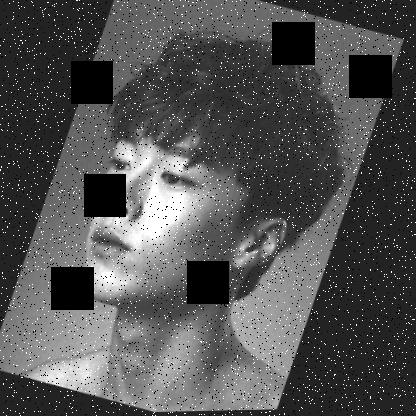Male: (59, 102, 314, 345)
